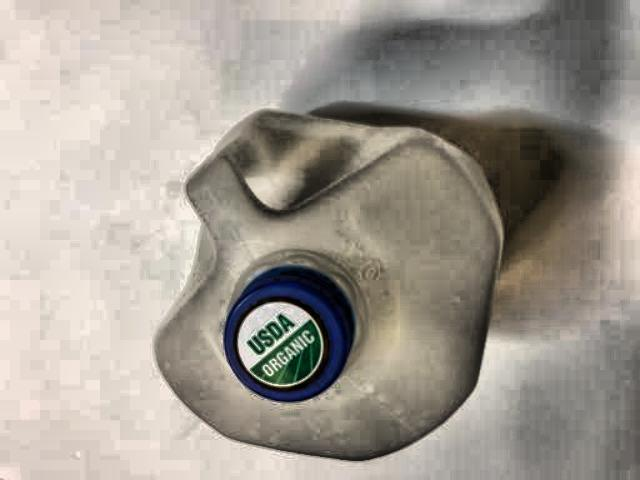Plastic: (144, 95, 528, 461)
